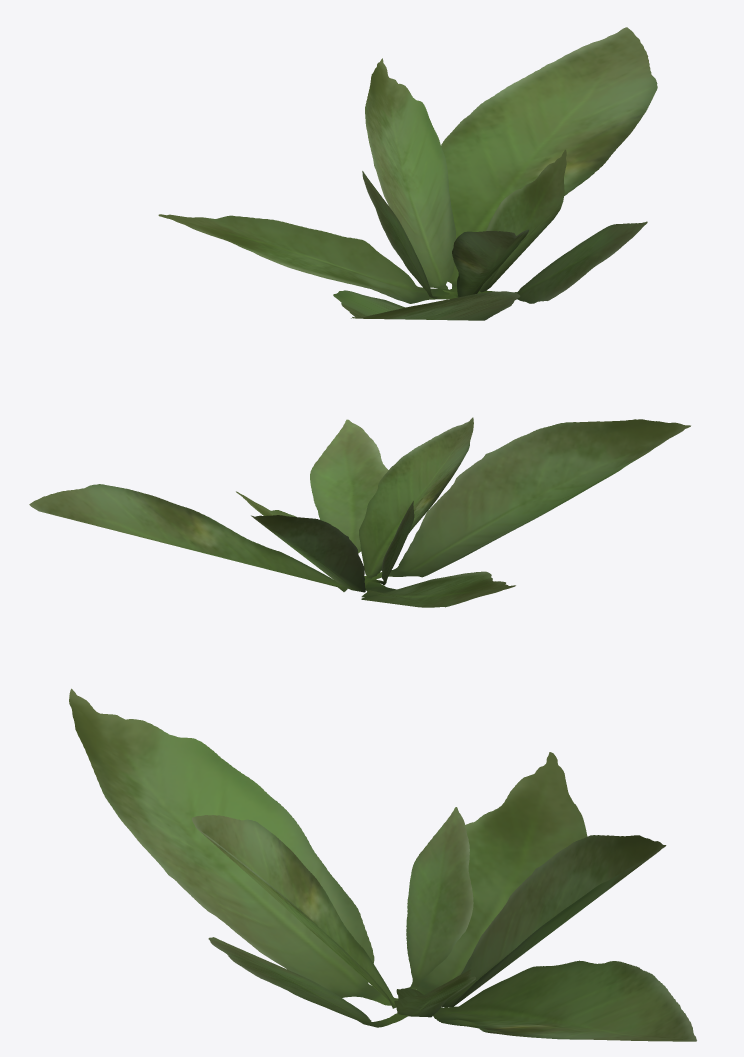
File: BgMD_Tanihira_PlantY_04_01.fbx
3 renders of one model, top to bottom at view 1: azimuth 30°, elevation 25°; view 2: azimuth 150°, elevation 25°; view 3: azimuth 270°, elevation 25°, orthographic. The views are drawn at different scales.
Visible parts, largest first — view 1: pPlane16; view 2: pPlane16; view 3: pPlane16.
Part boxes in pixels (box(x1,y1,x2,y2)): pPlane16: box(158, 27, 657, 320); pPlane16: box(29, 417, 690, 607); pPlane16: box(69, 688, 696, 1041).
Size of the model in its own units: 29.29 by 8.71 by 25.24.
